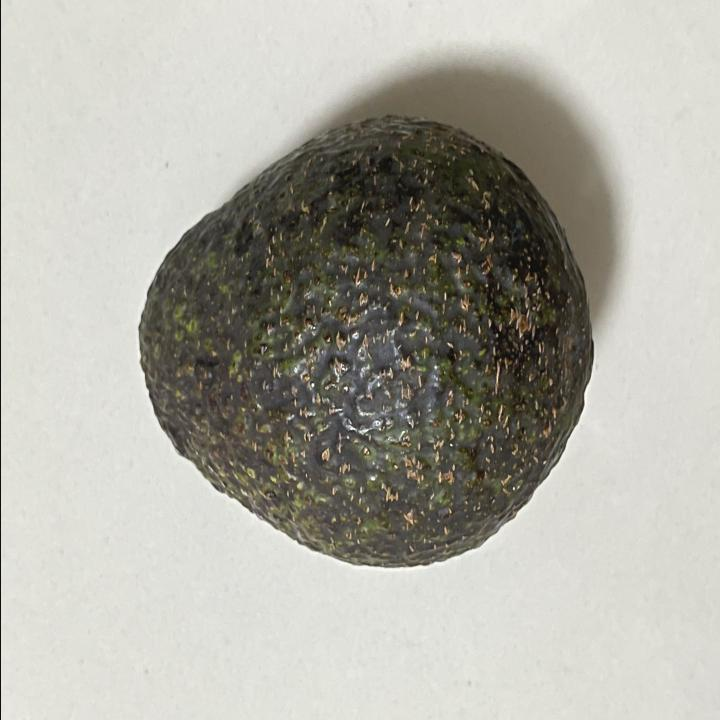Level1: (122, 105, 602, 587)
